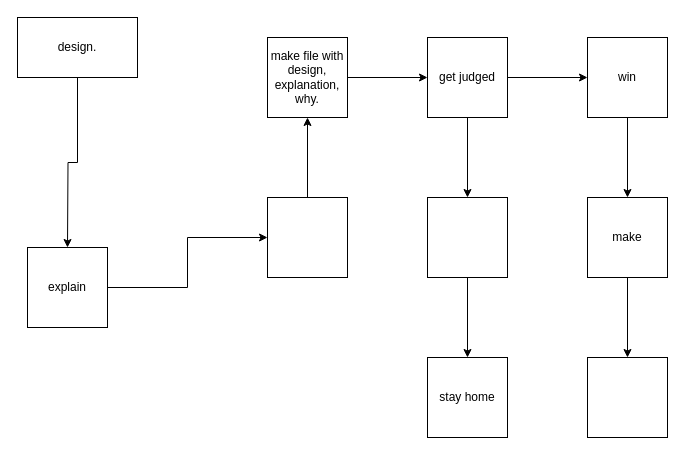
Image size: 685x455. Some labels were removed from this diagram. The shapes that lost their labels are listed below. From the top down, each one's box as (x1, y1, x2, y2) in pixels, then its label:
(266, 196, 348, 278): why
(426, 196, 508, 278): lose
(586, 356, 668, 438): launch
